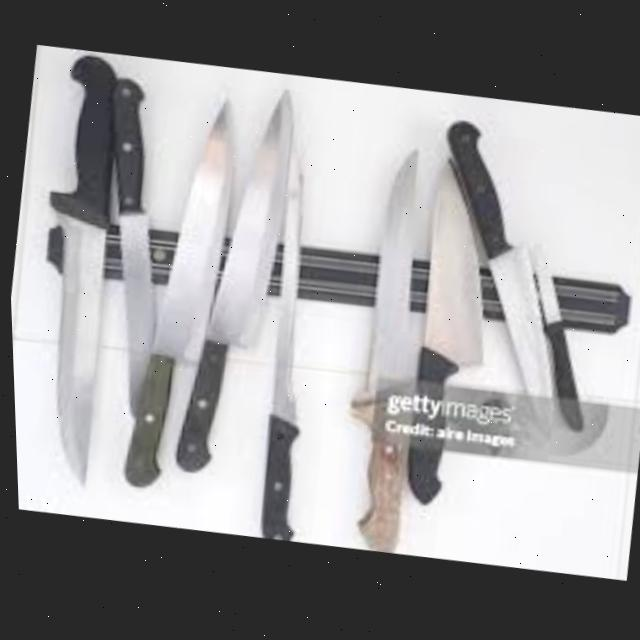Knife: (404, 116, 620, 436), (158, 78, 309, 481), (2, 50, 141, 485), (106, 88, 247, 493), (320, 143, 449, 557), (234, 148, 343, 543), (66, 74, 187, 422), (389, 183, 485, 508), (494, 241, 605, 434)
